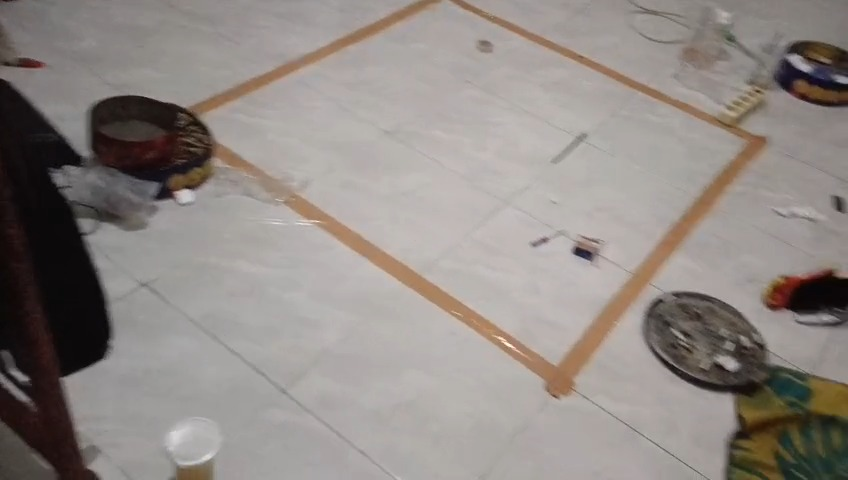floor marking: (215, 0, 766, 397), (190, 0, 441, 113)
